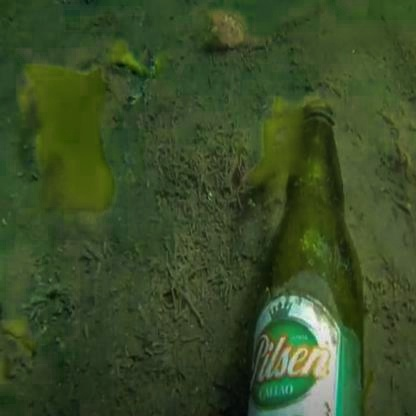pbottle: (263, 87, 366, 416)
